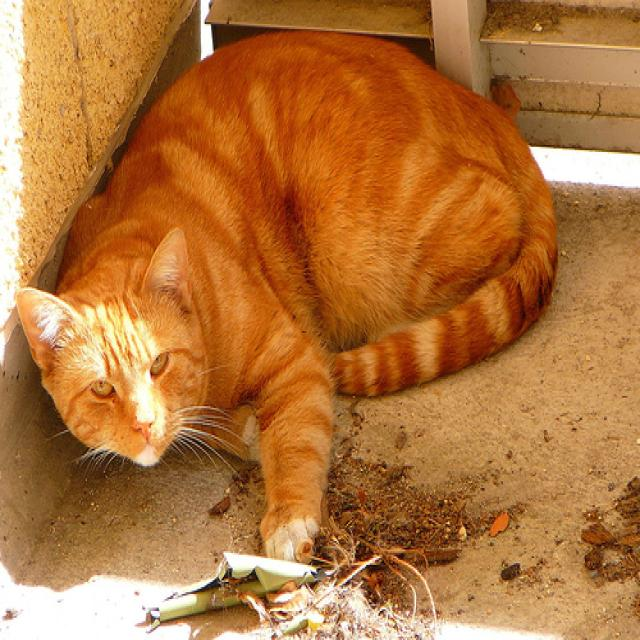cat: (15, 28, 559, 566)
